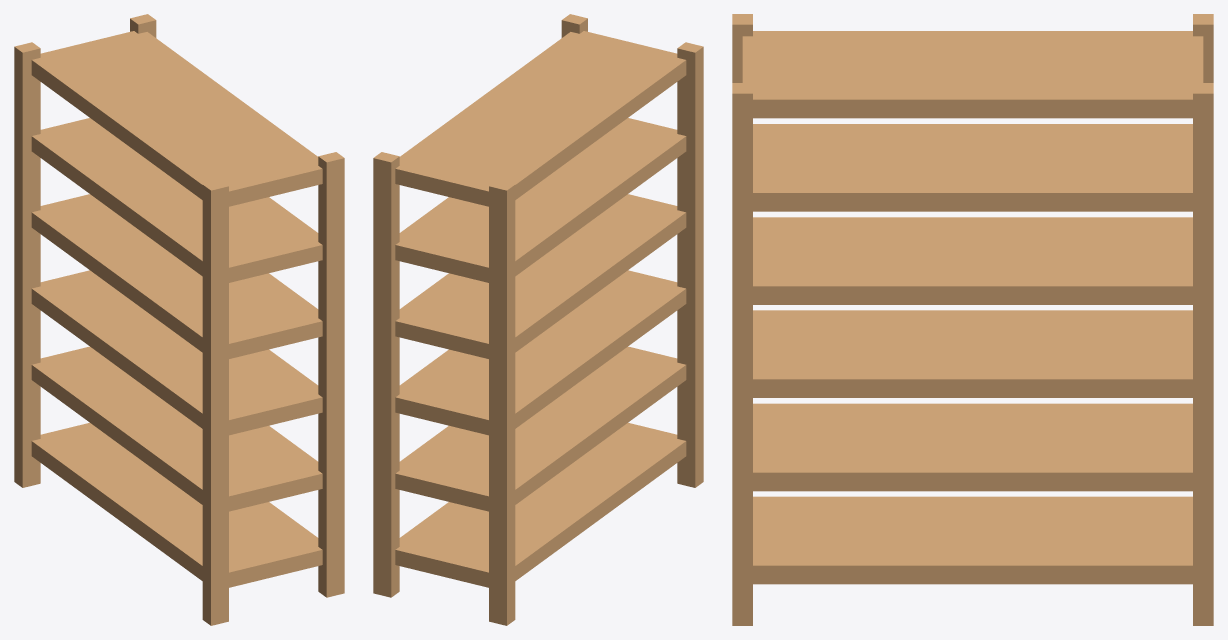
Rendered from shelf_large_wood.fbx.
The picture shows the model from 3 angles, left to right: view 1: azimuth 30°, elevation 25°; view 2: azimuth 150°, elevation 25°; view 3: azimuth 270°, elevation 25°; orthographic projection. The views are drawn at different scales.
Visible parts, largest first — view 1: shelf_large; view 2: shelf_large; view 3: shelf_large.
Part boxes in pixels (x1,y1,x2,y2): shelf_large: (14,14,344,625); shelf_large: (373,14,703,625); shelf_large: (732,14,1213,625).
Size of the model in its own units: 77.17 by 240 by 197.
